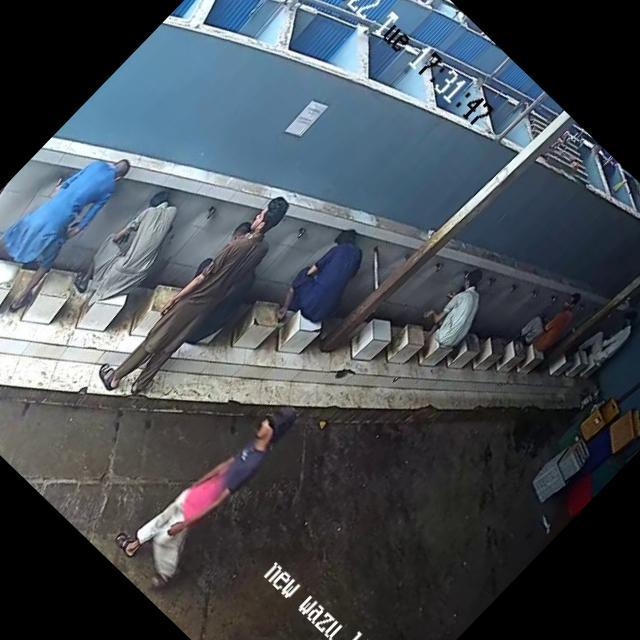person: (88, 191, 304, 412), (120, 396, 312, 592), (0, 131, 142, 276), (70, 180, 200, 310), (163, 220, 284, 342), (276, 224, 379, 330), (413, 255, 513, 358), (511, 282, 597, 370), (566, 306, 640, 385)
